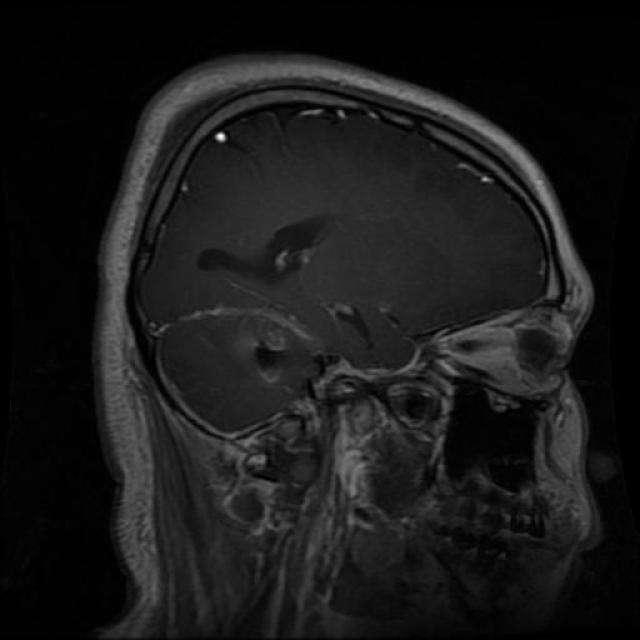glioma: (194, 211, 350, 289)
